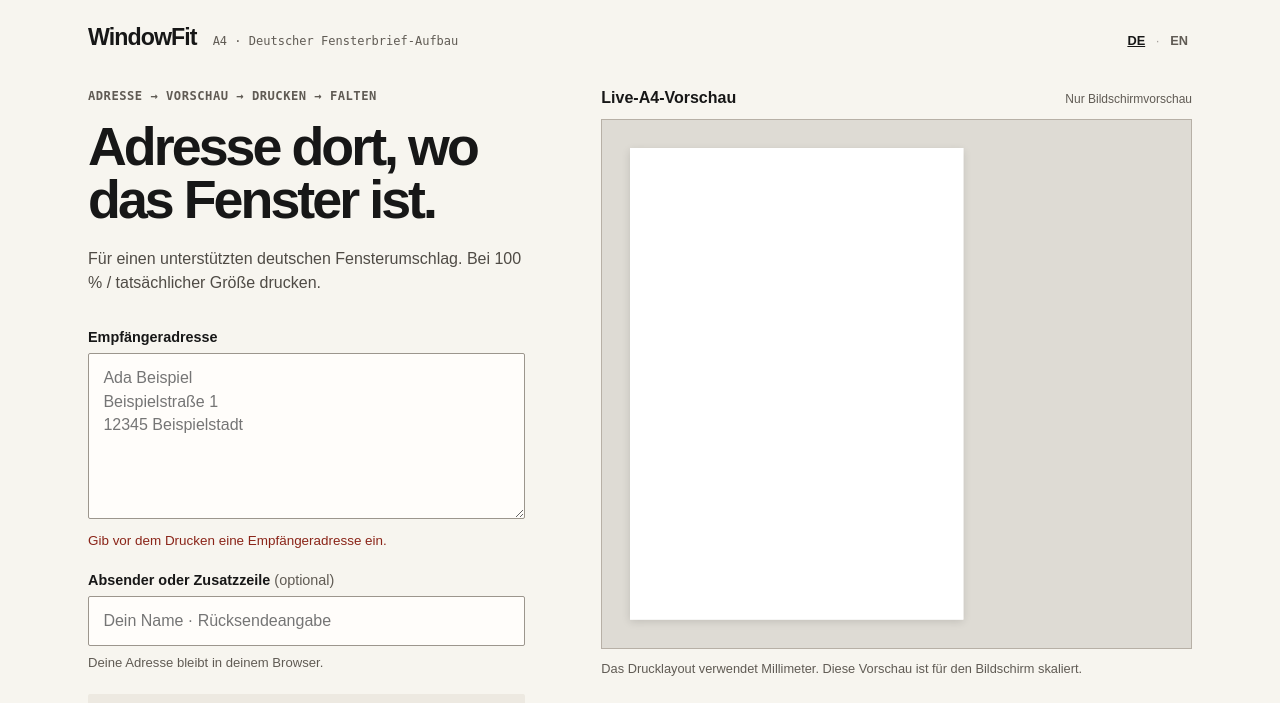
Test: WindowFit V0.1 protected baseline & V0.2 extensions › provides screen-only envelope window visualization that does not contaminate print output
Type "Ada Beispiel" into the text box labelled "Empfängeradresse" at x=306, y=436, box [88,352,524,519]
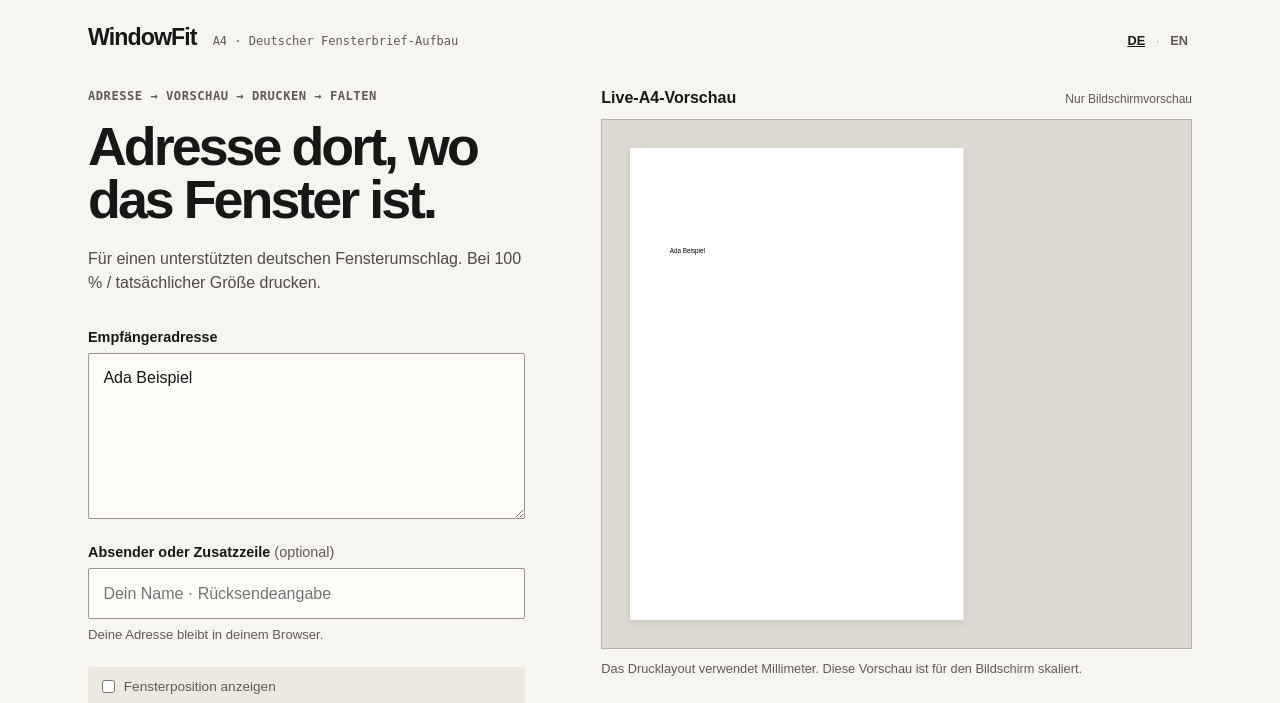
Click the checkbox labelled "Fensterposition anzeigen" at x=108, y=686, box [102,680,115,693]
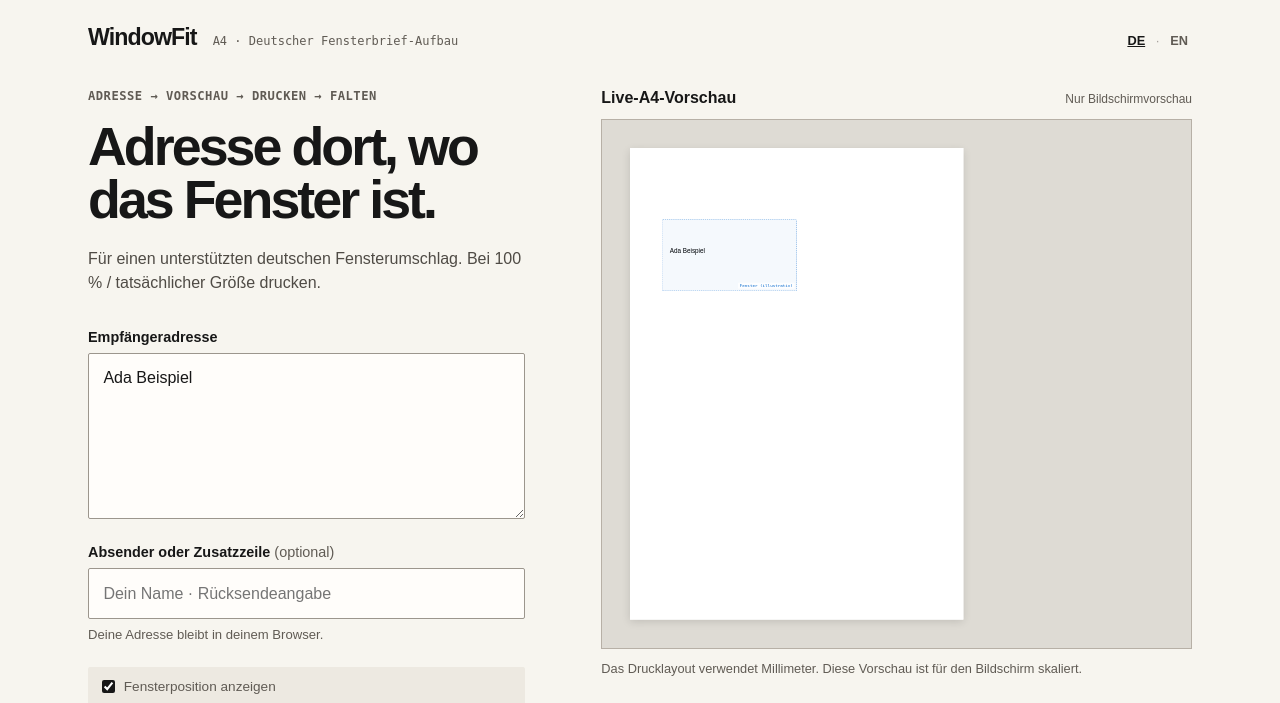
Expected: the element showing "Fenster (illustrativ)" is shown, [662,220,797,291]
